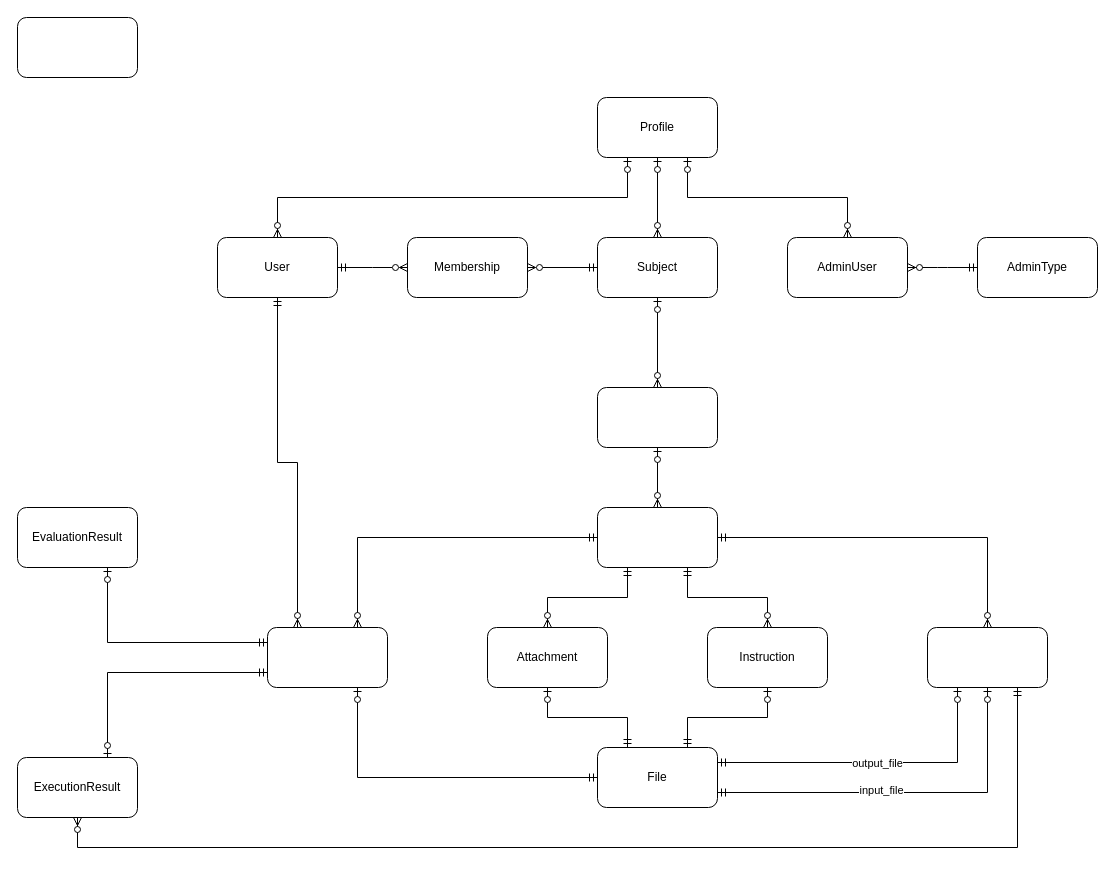
Image size: 1115x874. Some labels were removed from this diagram. Each missing label, with the centre of its shape:
APIToken: (x=77, y=47)
Exercise: (x=657, y=417)
Submissions: (x=327, y=657)
Task: (x=657, y=537)
TestCase: (x=987, y=657)
